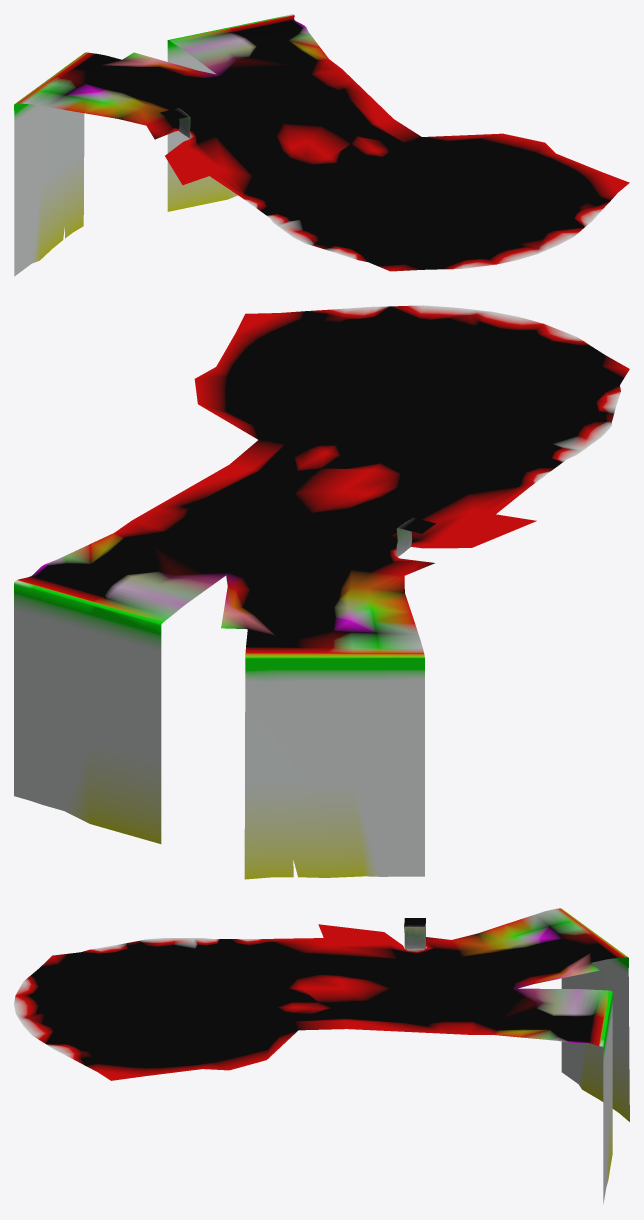
3 renders of one model, top to bottom at view 1: azimuth 30°, elevation 25°; view 2: azimuth 150°, elevation 25°; view 3: azimuth 270°, elevation 25°, orthographic. The views are drawn at different scales.
Parts seen in each view (by area): view 1: G:\FFXIV-MapTools\exports\d2f2\bg\ex1\02_dra_d2\fld\d2f2\bgp; view 2: G:\FFXIV-MapTools\exports\d2f2\bg\ex1\02_dra_d2\fld\d2f2\bgp; view 3: G:\FFXIV-MapTools\exports\d2f2\bg\ex1\02_dra_d2\fld\d2f2\bgp.
Boxes of the visible parts, <box> form: G:\FFXIV-MapTools\exports\d2f2\bg\ex1\02_dra_d2\fld\d2f2\bgp: <box>14,14,629,276</box>; G:\FFXIV-MapTools\exports\d2f2\bg\ex1\02_dra_d2\fld\d2f2\bgp: <box>14,305,629,879</box>; G:\FFXIV-MapTools\exports\d2f2\bg\ex1\02_dra_d2\fld\d2f2\bgp: <box>14,908,629,1203</box>.
Bounding box in the file's own units: 619 × 312 × 919.
